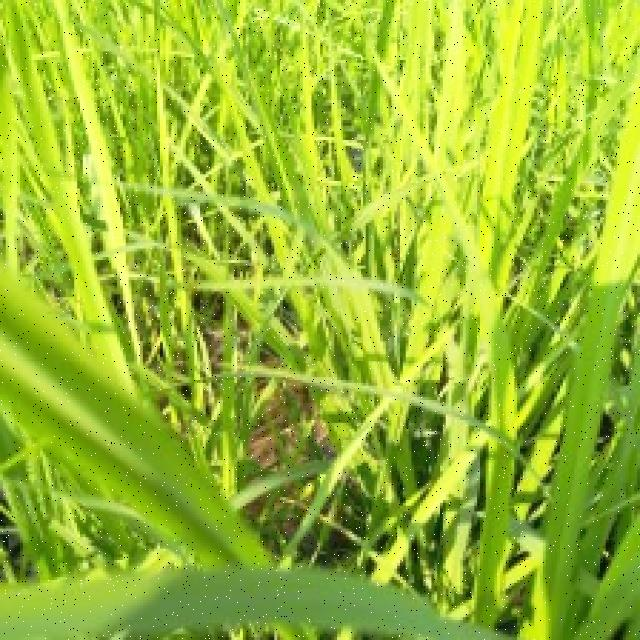health: (5, 7, 640, 640)
